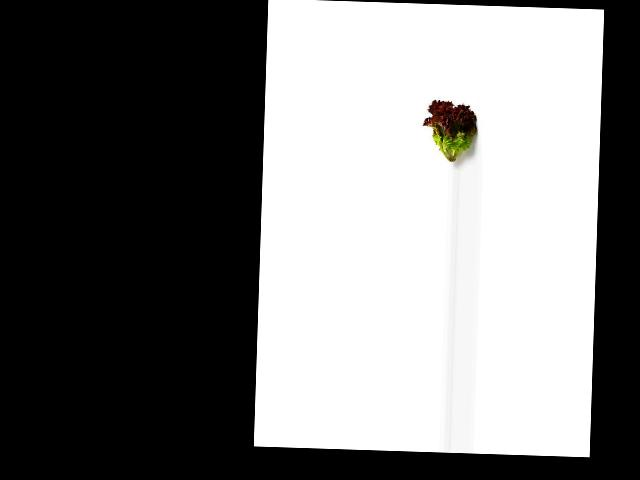lettuce: (423, 96, 479, 170)
